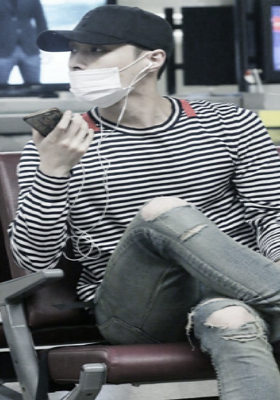mask_weared_incorrect: (67, 43, 149, 108)
